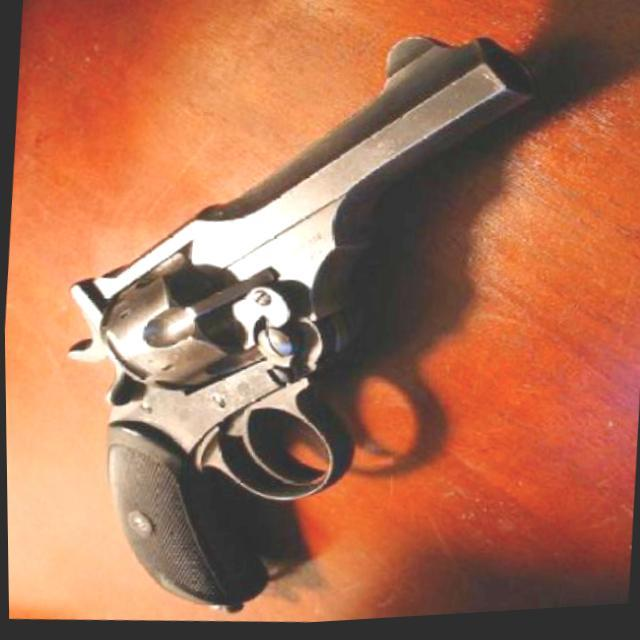gun: (39, 7, 556, 638)
